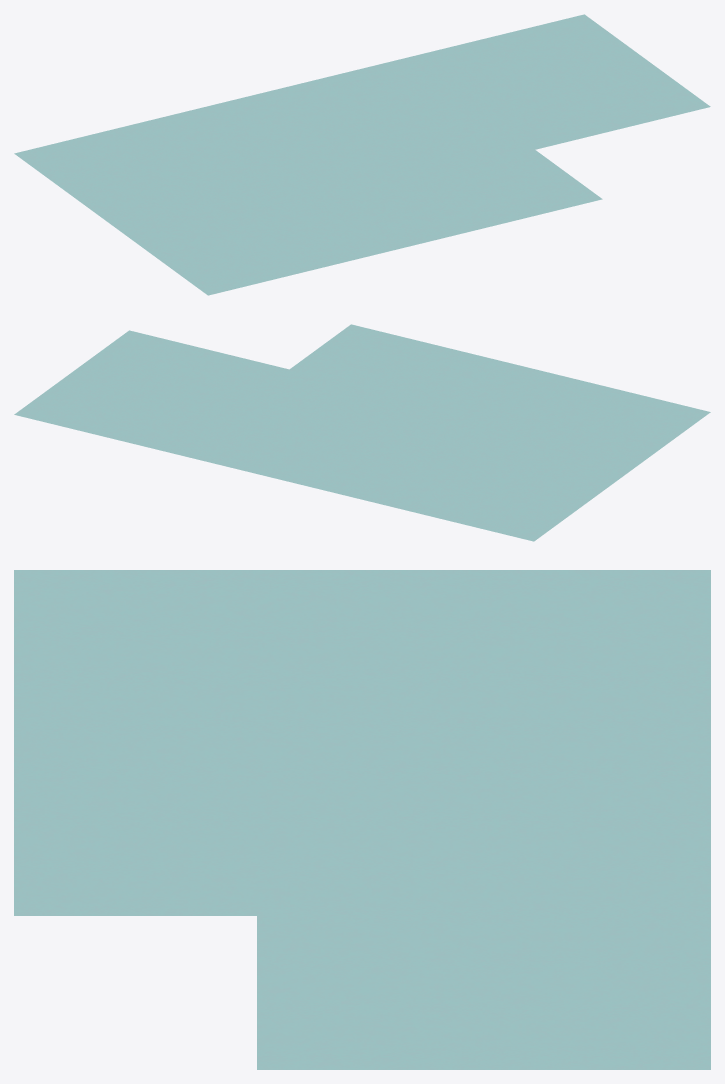
The model's file is bedroom_0_0.ceiling.glb.
3 views of the same model, one above another, from view 1: azimuth 30°, elevation 25°; view 2: azimuth 150°, elevation 25°; view 3: azimuth 270°, elevation 25° (orthographic). The views are drawn at different scales.
Visible parts, largest first — view 1: bedroom_0/0.ceiling.001; view 2: bedroom_0/0.ceiling.001; view 3: bedroom_0/0.ceiling.001.
Boxes of the visible parts, x1,y1,x2,y2 form: bedroom_0/0.ceiling.001: (14,14,710,295); bedroom_0/0.ceiling.001: (14,324,710,541); bedroom_0/0.ceiling.001: (14,570,710,1069).
Bounding box in the file's own units: 9.74 × 2.03e-05 × 5.74.
1 material, 1 textured.
